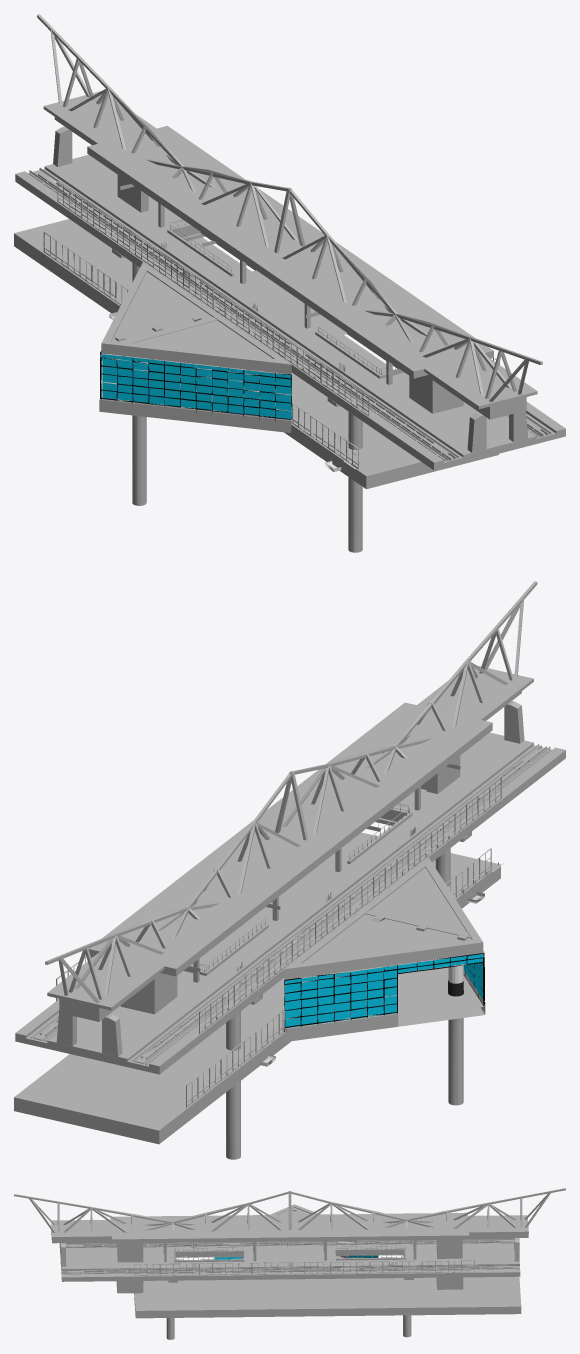
Rendered from LinkStation.glb.
3 views of the same model, one above another, from view 1: azimuth 30°, elevation 25°; view 2: azimuth 150°, elevation 25°; view 3: azimuth 270°, elevation 25° (orthographic). The views are drawn at different scales.
Parts seen in each view (by area): view 1: Train Station_INSTALOD; view 2: Train Station_INSTALOD, IMD_3_MediaArt_INSTALOD; view 3: Train Station_INSTALOD.
Part boxes in pixels (box(x1,y1,x2,y2)): Train Station_INSTALOD: box(14, 14, 565, 552); Train Station_INSTALOD: box(14, 581, 565, 1159); IMD_3_MediaArt_INSTALOD: box(285, 954, 483, 1028); Train Station_INSTALOD: box(14, 1188, 565, 1339).
Size of the model in its own units: 32.35 by 32.36 by 103.
